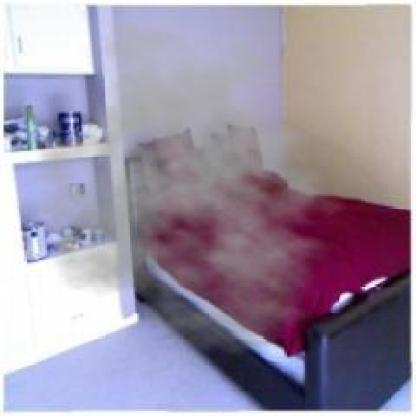Smoke: (18, 18, 360, 356)
